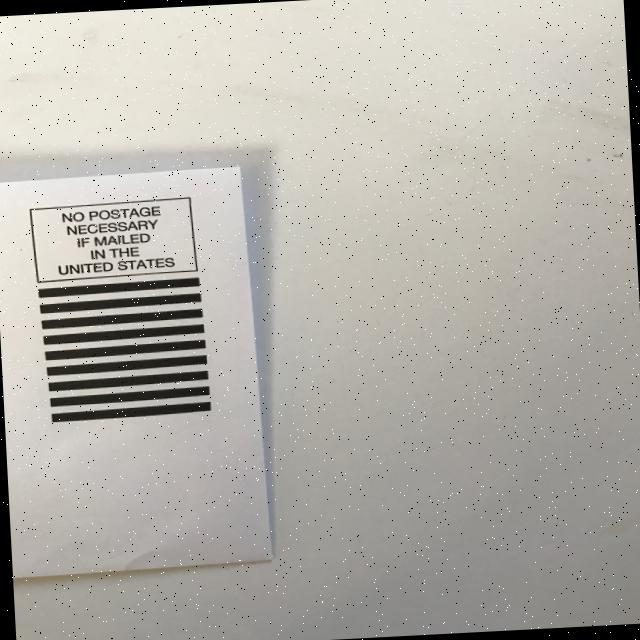paper: (0, 0, 640, 640), (0, 165, 274, 578)
